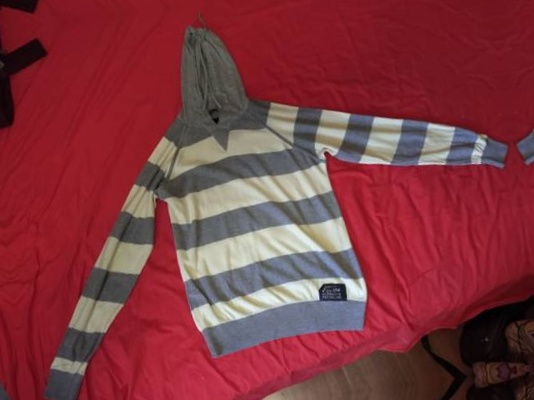Hoodie: (14, 0, 522, 400), (509, 0, 534, 337), (68, 396, 534, 400), (0, 0, 467, 3)
